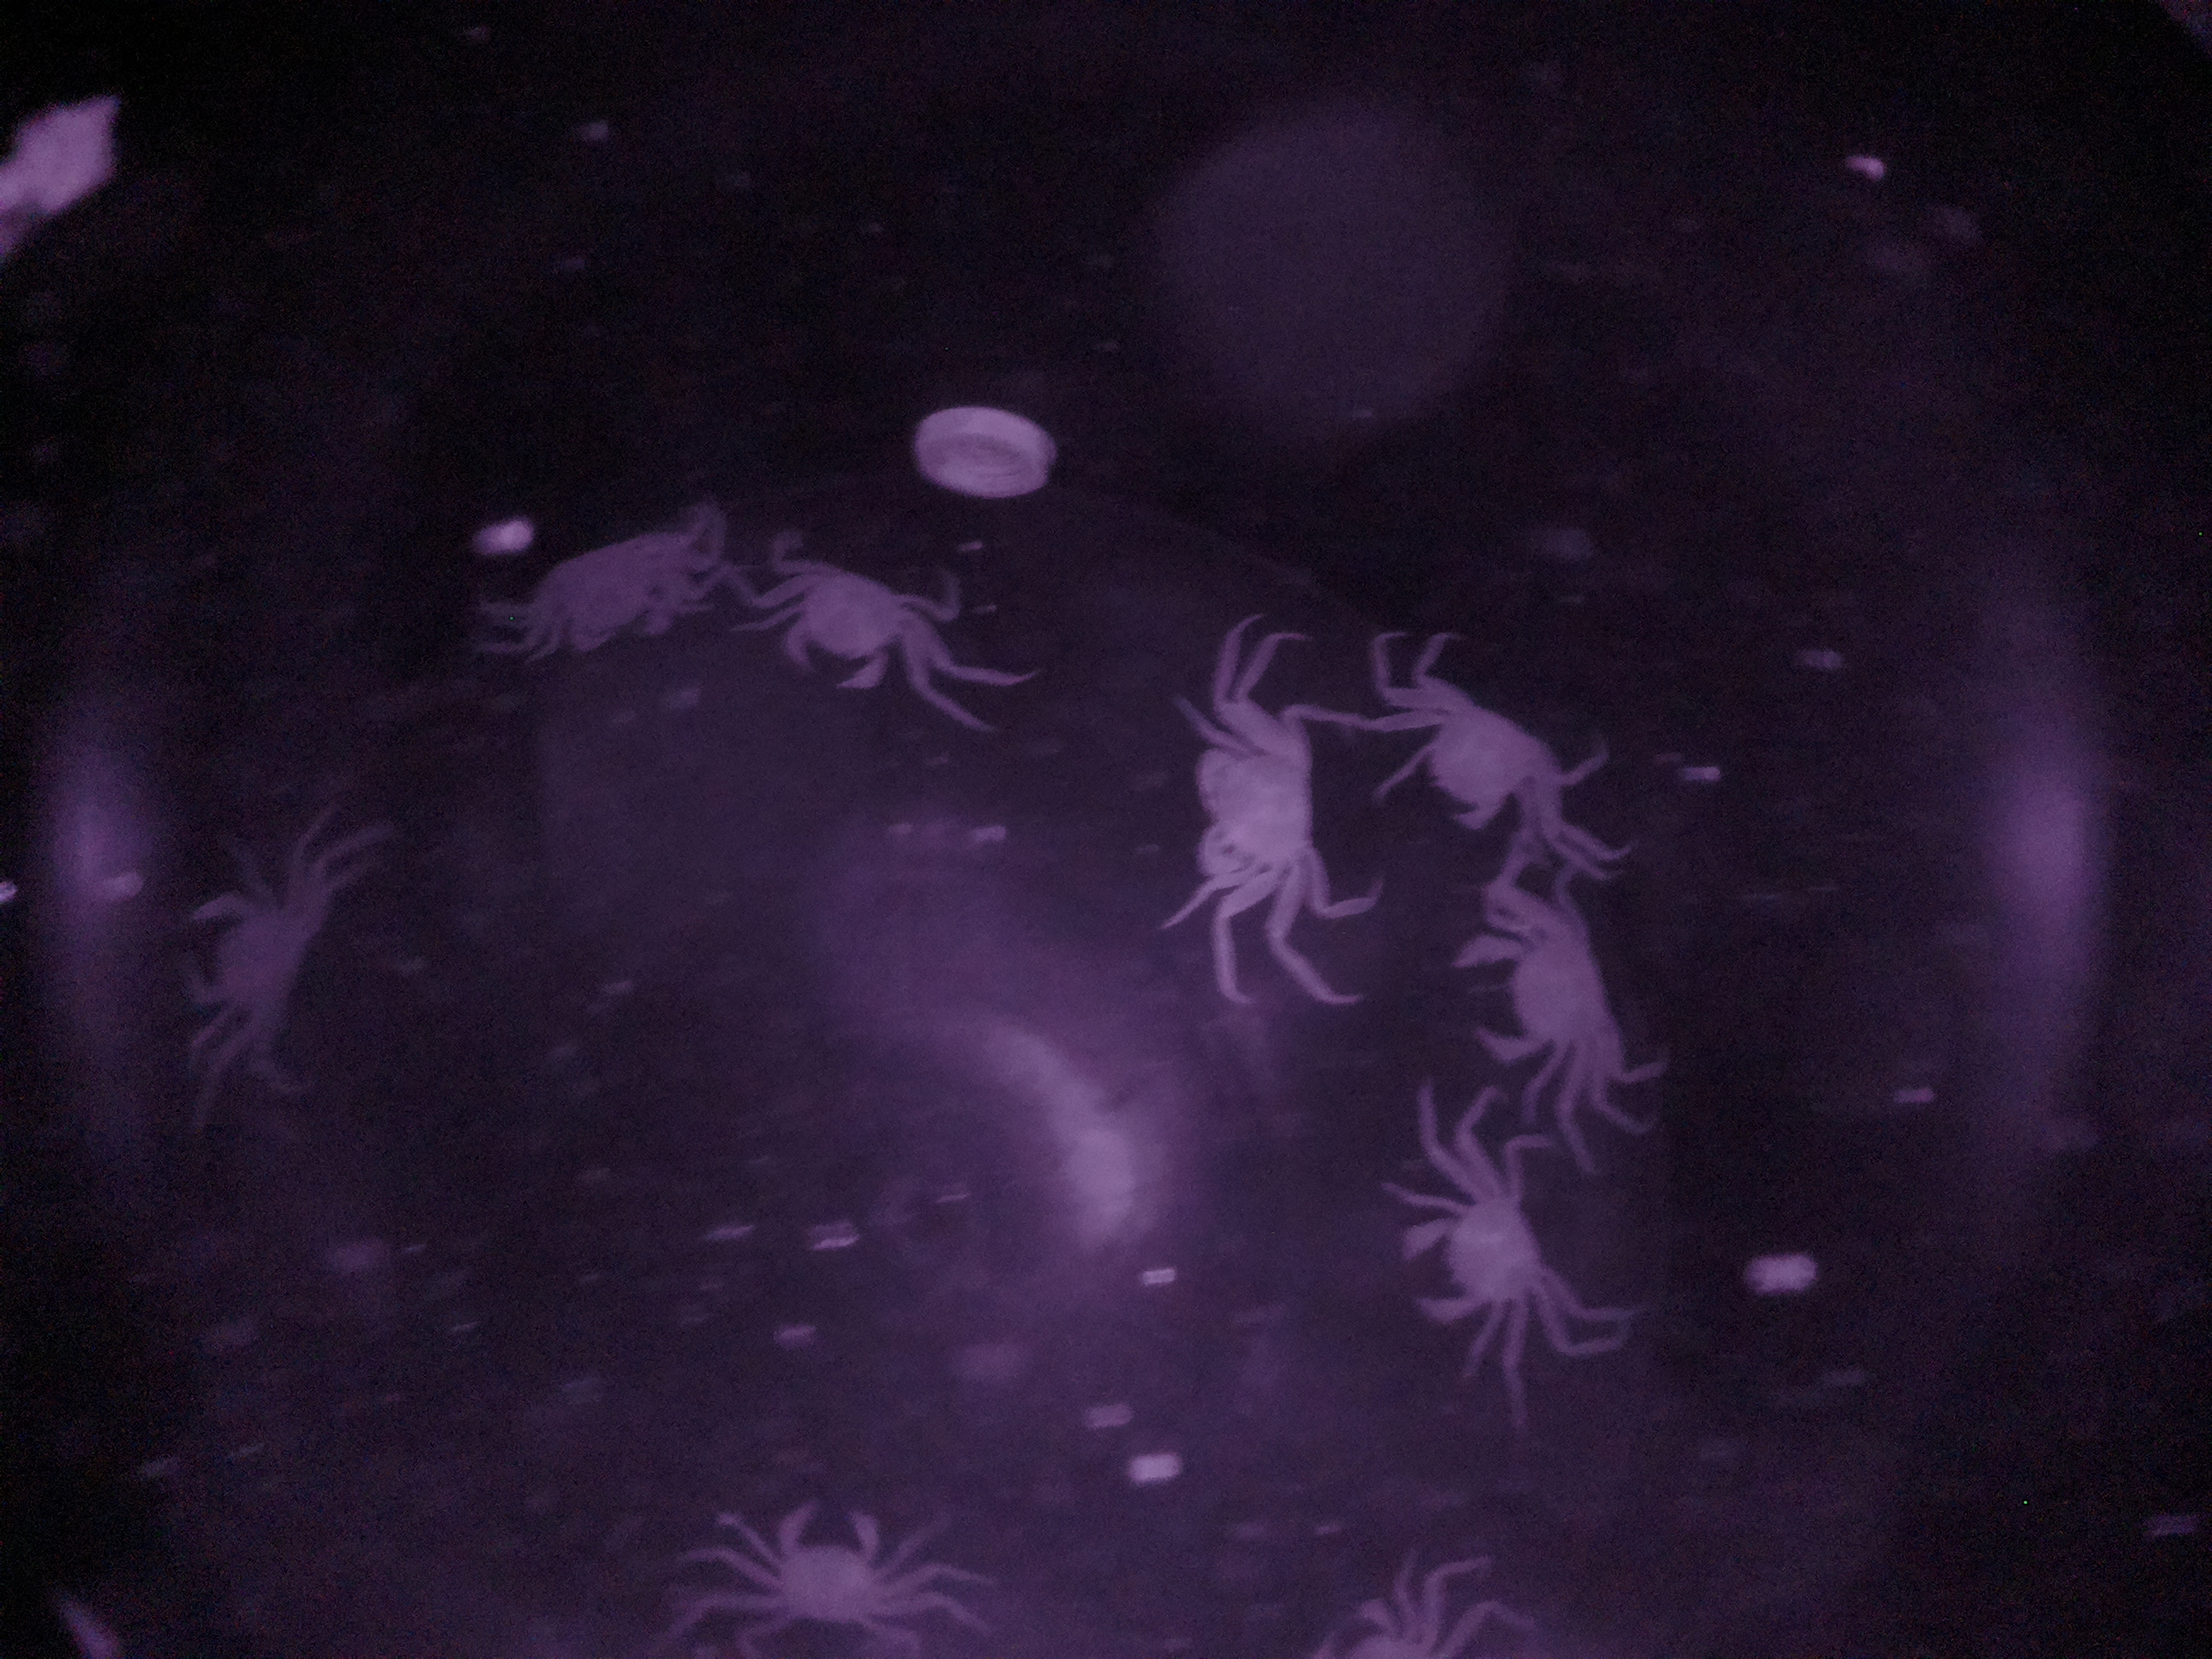Crab: (1414, 863, 1655, 1105), (1167, 678, 1369, 965), (1379, 633, 1597, 850), (735, 518, 975, 708), (1367, 1157, 1594, 1354), (718, 1462, 935, 1650)
